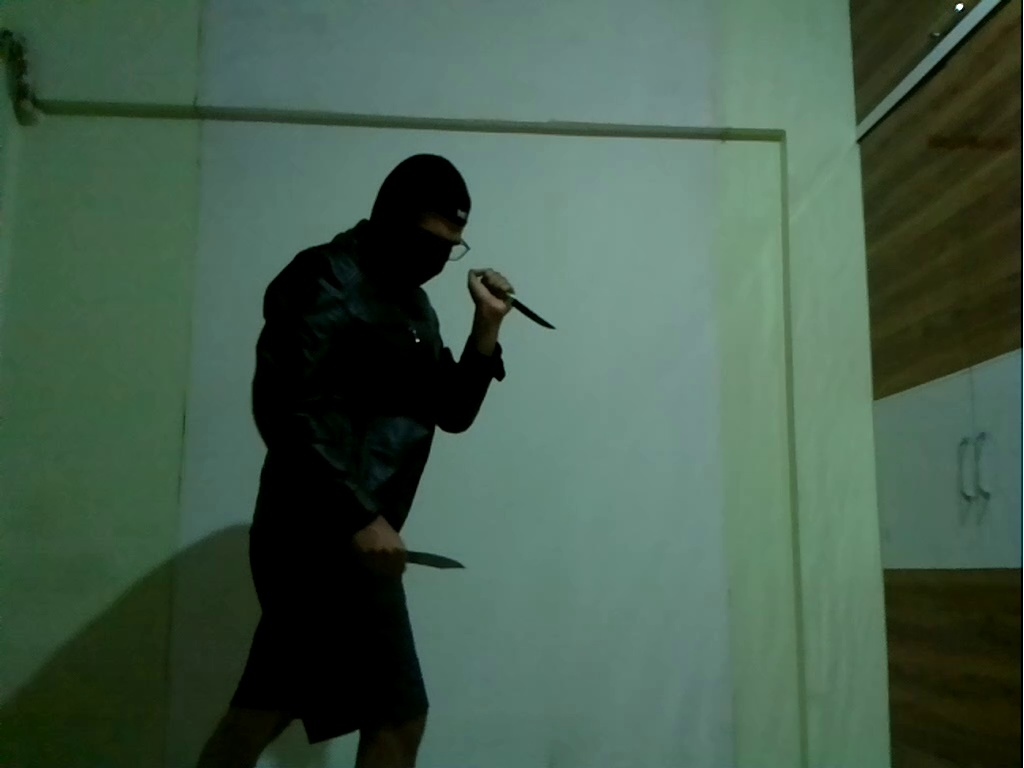knife: (501, 288, 563, 340), (397, 548, 466, 576)
